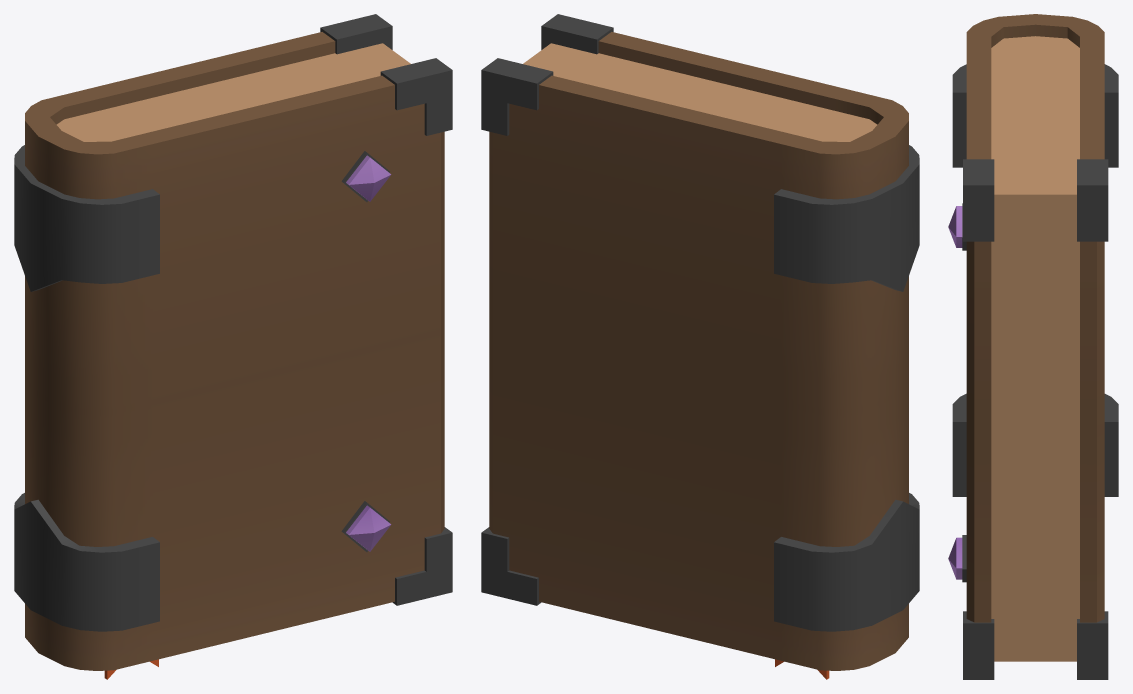
File: Book_08.glb
The picture shows the model from 3 angles, left to right: view 1: azimuth 30°, elevation 25°; view 2: azimuth 150°, elevation 25°; view 3: azimuth 270°, elevation 25°; orthographic projection. The views are drawn at different scales.
Parts seen in each view (by area): view 1: Book_08_LOD0; view 2: Book_08_LOD0; view 3: Book_08_LOD0.
Boxes of the visible parts, box(x1,y1,x2,y2) form: Book_08_LOD0: box(14, 14, 452, 679); Book_08_LOD0: box(481, 14, 919, 679); Book_08_LOD0: box(948, 14, 1118, 679).
Size of what is drawn, in the model's own units: 0.2512 by 0.3515 by 0.1021.
1 material, 1 textured.
